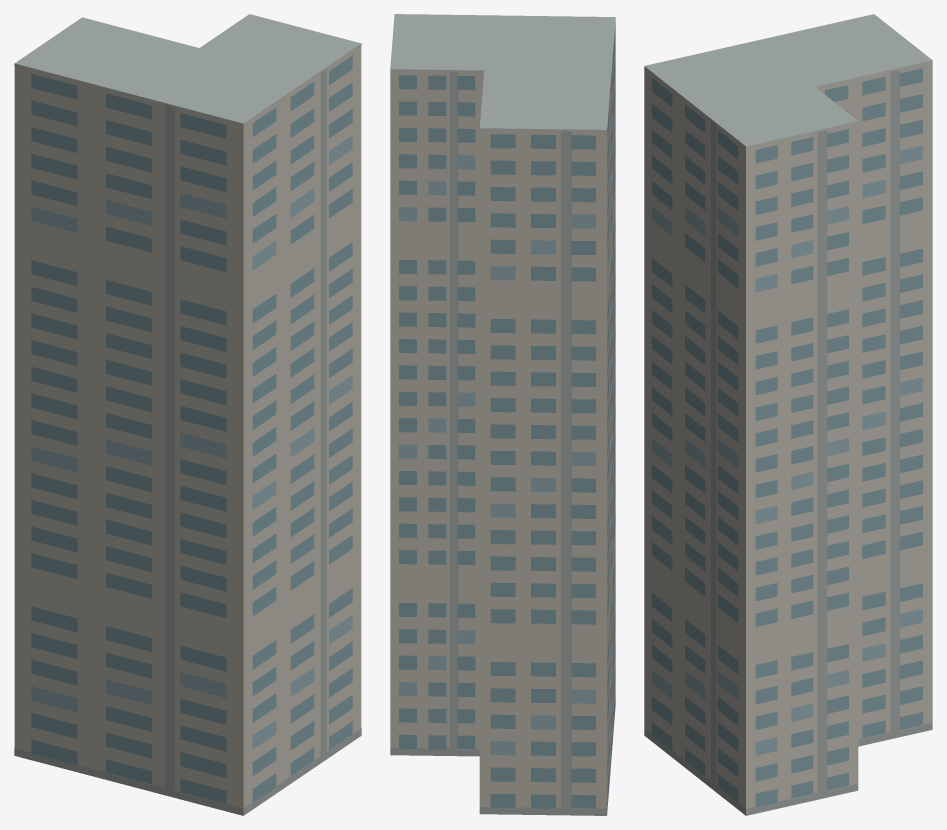
Rendered from residential-c72f2e4d-2def-446c-8af0-6c8373c9528a.glb.
3 views of the same model, side by side, from view 1: azimuth 30°, elevation 25°; view 2: azimuth 150°, elevation 25°; view 3: azimuth 270°, elevation 25° (orthographic). The views are drawn at different scales.
Parts seen in each view (by area): view 1: residential-c72f2e4d-2def-446c-8af0-6c8373c9528a.tmp; view 2: residential-c72f2e4d-2def-446c-8af0-6c8373c9528a.tmp; view 3: residential-c72f2e4d-2def-446c-8af0-6c8373c9528a.tmp.
Boxes of the visible parts, left/top/right/bottom form: residential-c72f2e4d-2def-446c-8af0-6c8373c9528a.tmp: left=14, top=14, right=361, bottom=815; residential-c72f2e4d-2def-446c-8af0-6c8373c9528a.tmp: left=390, top=14, right=615, bottom=815; residential-c72f2e4d-2def-446c-8af0-6c8373c9528a.tmp: left=644, top=14, right=932, bottom=815.
Bounding box in the file's own units: 34.38 × 81 × 31.65.
